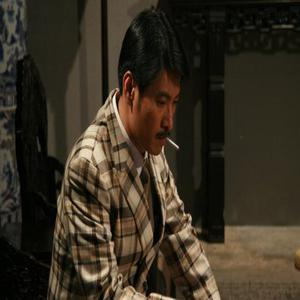cigarette: (164, 138, 181, 151)
